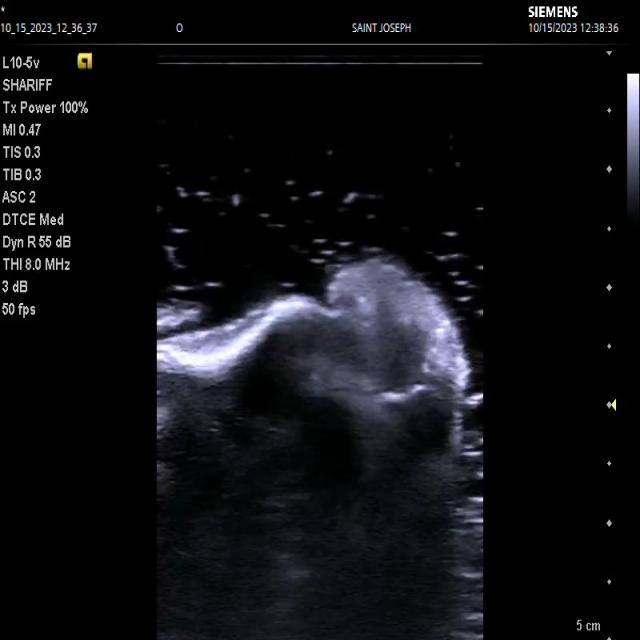tissue: (157, 252, 481, 640)
